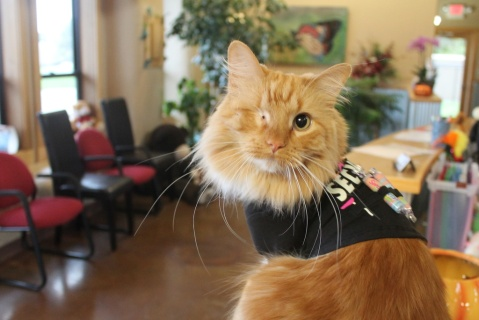Cat: (134, 39, 450, 319)
